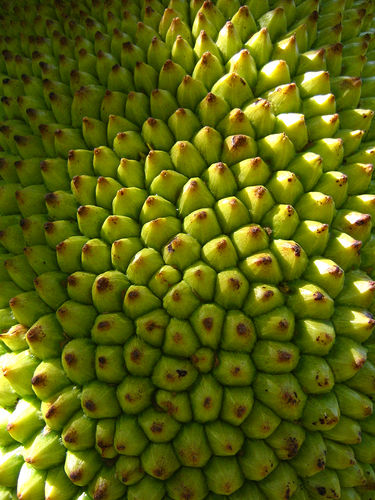jackfruit: (0, 0, 373, 498)
